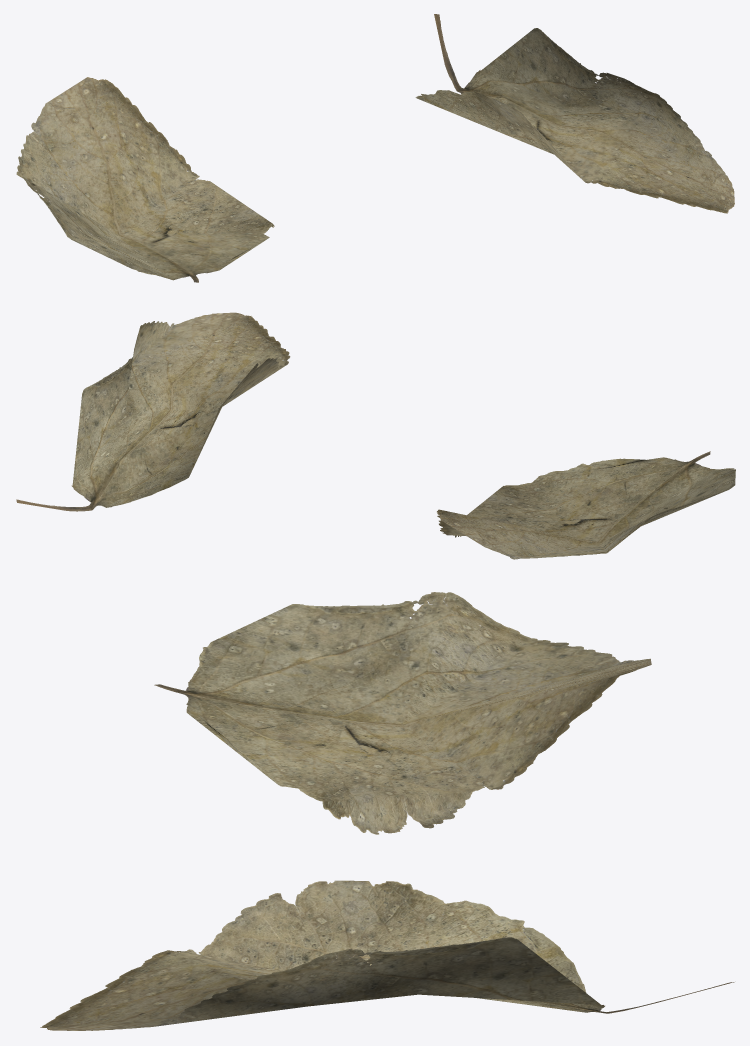
Rendered from leaves_lod1.glb.
3 renders of one model, top to bottom at view 1: azimuth 30°, elevation 25°; view 2: azimuth 150°, elevation 25°; view 3: azimuth 270°, elevation 25°, orthographic. The views are drawn at different scales.
Visible parts, largest first — view 1: ENV_Foliage_Leaves_Scatter_LOD1; view 2: ENV_Foliage_Leaves_Scatter_LOD1; view 3: ENV_Foliage_Leaves_Scatter_LOD1.
Boxes of the visible parts, <box> form: ENV_Foliage_Leaves_Scatter_LOD1: <box>16,14,734,282</box>; ENV_Foliage_Leaves_Scatter_LOD1: <box>16,312,735,559</box>; ENV_Foliage_Leaves_Scatter_LOD1: <box>40,592,734,1030</box>.
Size of the model in its own units: 0.1419 by 0.023 by 0.1107.
1 material, 1 textured.
